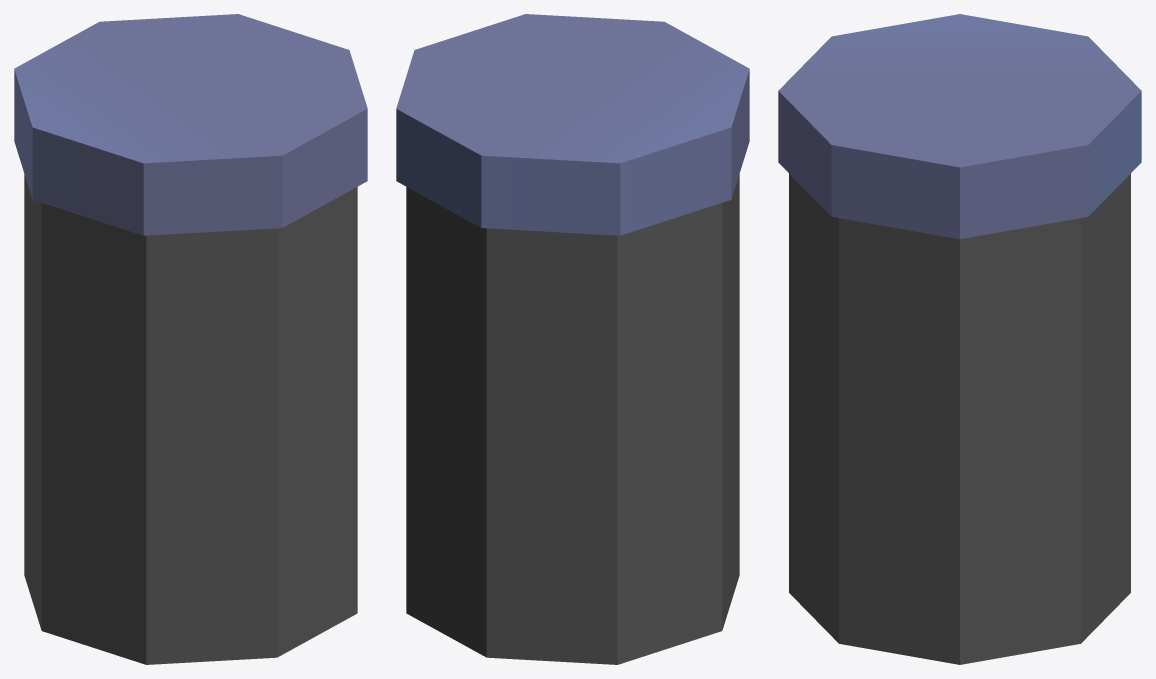
Rendered from Bathroom2_Bottle4.fbx.
The picture shows the model from 3 angles, left to right: view 1: azimuth 30°, elevation 25°; view 2: azimuth 150°, elevation 25°; view 3: azimuth 270°, elevation 25°; orthographic projection.
Parts seen in each view (by area): view 1: Bathroom2_Bottle4; view 2: Bathroom2_Bottle4; view 3: Bathroom2_Bottle4.
Part boxes in pixels (box(x1,y1,x2,y2)): Bathroom2_Bottle4: box(14, 14, 367, 664); Bathroom2_Bottle4: box(396, 14, 749, 664); Bathroom2_Bottle4: box(778, 14, 1141, 664).
Size of the model in its own units: 11.13 by 16.97 by 11.13.
